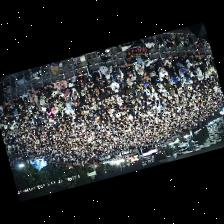person: (86, 59, 102, 82), (156, 61, 168, 79), (150, 70, 162, 87), (76, 68, 86, 87), (40, 84, 54, 96), (134, 83, 144, 99), (54, 79, 67, 91), (121, 63, 133, 76), (100, 65, 112, 77), (144, 59, 155, 72), (179, 62, 189, 76), (87, 77, 95, 93), (136, 70, 146, 82), (163, 54, 172, 67), (111, 64, 119, 78), (135, 61, 144, 73), (111, 78, 119, 91), (30, 94, 38, 107), (70, 86, 78, 99), (52, 86, 60, 99), (97, 79, 105, 92), (102, 74, 112, 84), (177, 55, 187, 65), (50, 97, 60, 107), (122, 78, 131, 89), (123, 74, 134, 83), (186, 59, 194, 71), (22, 90, 29, 103), (13, 96, 22, 106), (117, 68, 123, 82), (173, 76, 182, 85), (193, 54, 202, 63), (126, 87, 134, 97), (48, 107, 55, 118), (40, 95, 46, 107), (67, 77, 75, 86), (81, 83, 87, 95), (116, 94, 123, 104), (171, 56, 178, 66), (8, 97, 15, 107), (61, 92, 68, 100), (0, 104, 3, 114)
